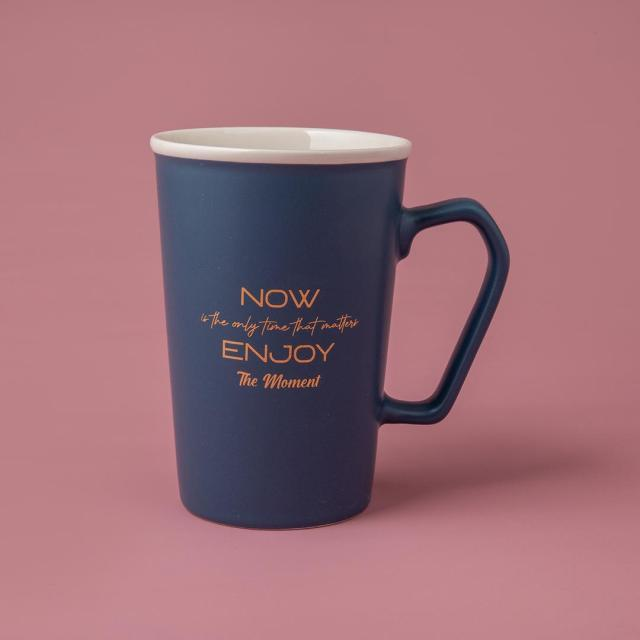Coffee Mug: (149, 124, 512, 534)
